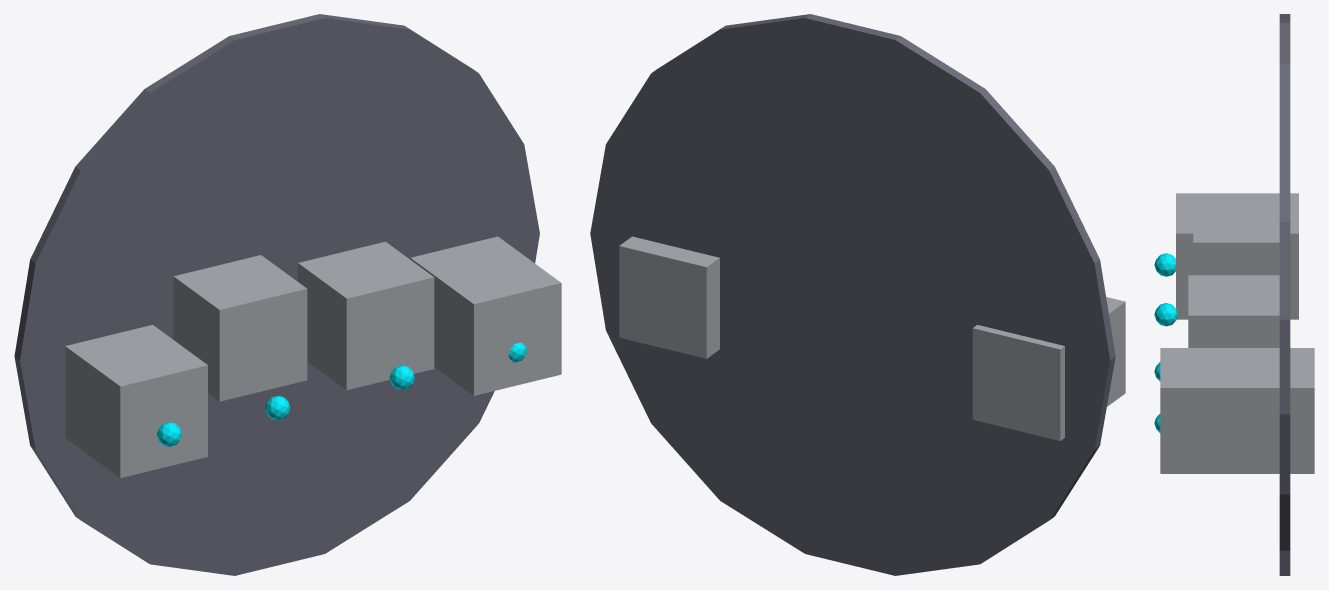
The model's file is 04_event_hazard_cluster.glb.
3 renders of one model, left to right at view 1: azimuth 30°, elevation 25°; view 2: azimuth 150°, elevation 25°; view 3: azimuth 270°, elevation 25°, orthographic. The views are drawn at different scales.
Visible parts, largest first — view 1: scatter_base, tech_crate_0, tech_crate_3, tech_crate_2, tech_crate_1; view 2: scatter_base, tech_crate_0, tech_crate_3; view 3: tech_crate_3, scatter_base, tech_crate_2, tech_crate_1, tech_crate_0, status_light_1, status_light_0.
Boxes of the visible parts, x1,y1,x2,y2 form: scatter_base: [14, 14, 539, 575]; tech_crate_0: [65, 324, 207, 477]; tech_crate_3: [410, 236, 561, 395]; tech_crate_2: [298, 241, 434, 389]; tech_crate_1: [173, 255, 307, 401]; scatter_base: [590, 14, 1115, 575]; tech_crate_0: [972, 297, 1125, 440]; tech_crate_3: [619, 236, 719, 358]; tech_crate_3: [1160, 348, 1314, 473]; scatter_base: [1279, 14, 1290, 575]; tech_crate_2: [1188, 275, 1279, 347]; tech_crate_1: [1193, 202, 1279, 275]; tech_crate_0: [1176, 193, 1298, 319]; status_light_1: [1154, 303, 1177, 326]; status_light_0: [1154, 253, 1175, 276].
Size of the model in its own units: 1.9 by 1.87 by 0.5398.
